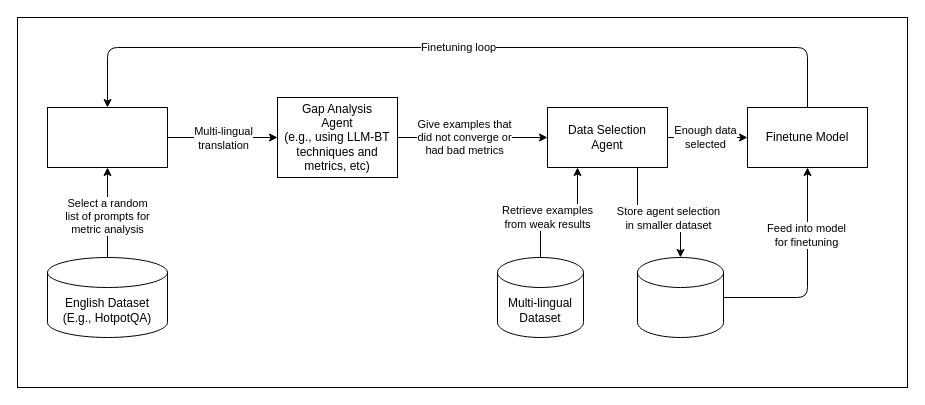
Some shapes in this 925 by 405 pixel diagram are drawn without their labels. The shapes that lost their labels are listed below. From the top down, each one's centre as x and y in pixels, then its label:
[107,137]: LLM (Llama, Gemma or finetuned model)
[680,297]: Fine-tuning Dataset
